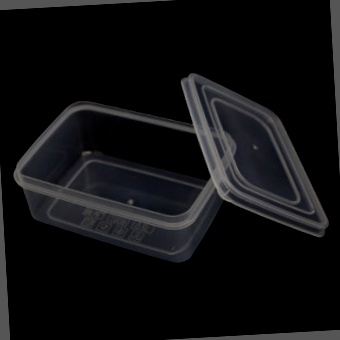plastic: (15, 94, 243, 256)
